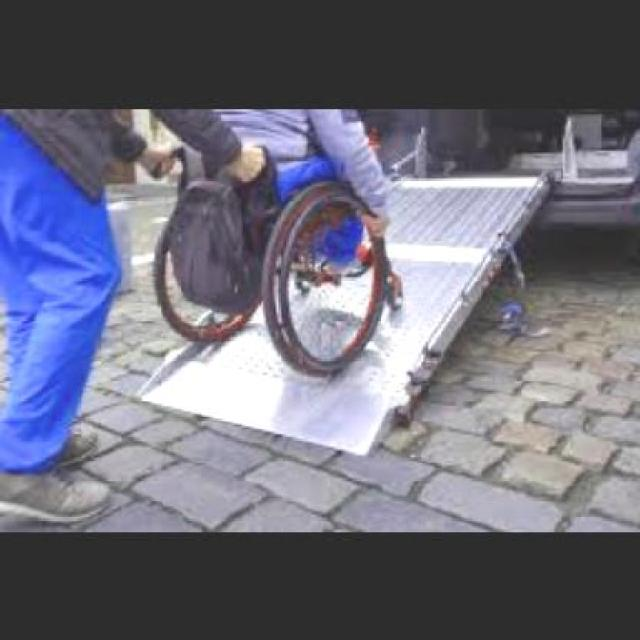wheelchairs: (151, 145, 411, 382)
